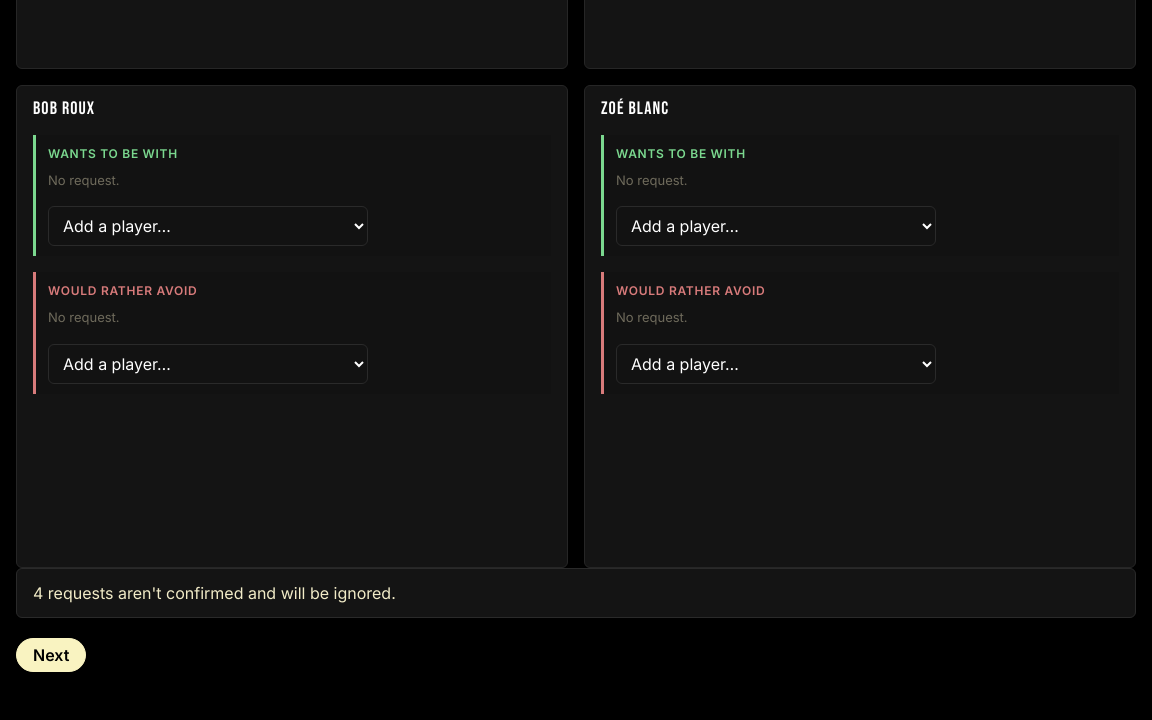
it: team builder page › moves with Next and Previous and hides them at the ends
(page scrolled)
Check: the button "Previous" is not shown
Click the button "Next" at x=51, y=655, box top-left (16, 638), bottom-right (86, 672)
(page scrolled)
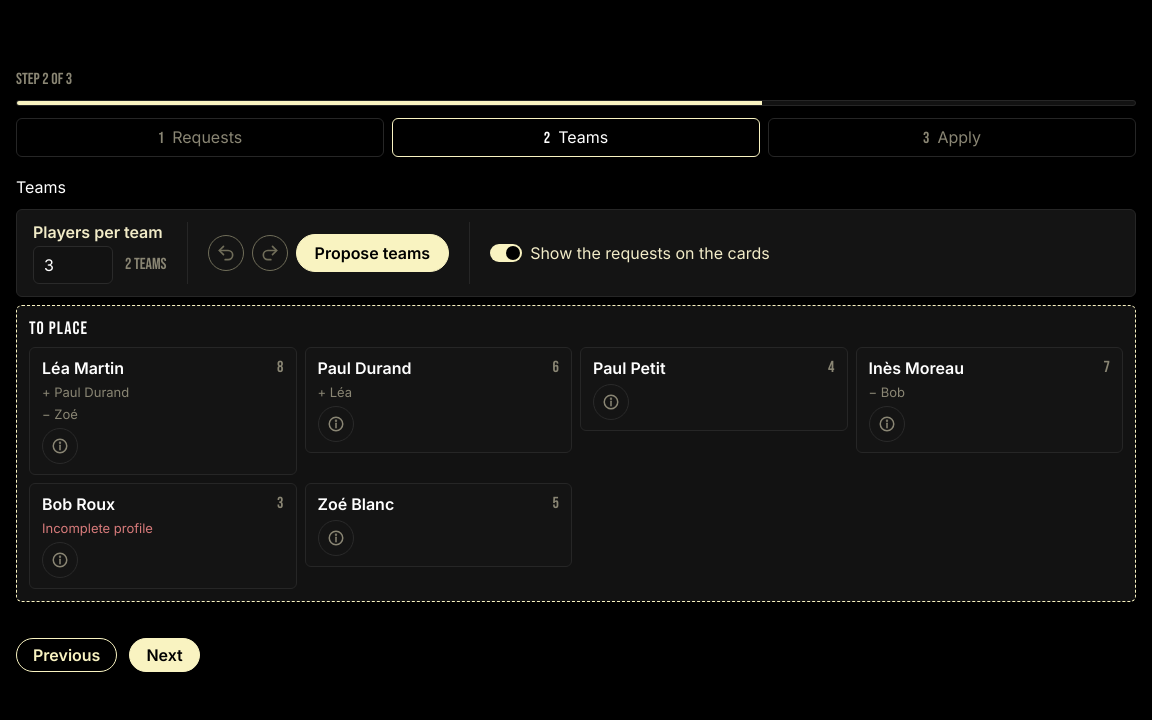
Check: the heading "Teams" is shown, box top-left (16, 177), bottom-right (66, 197)
Click the button "Next" at x=165, y=655, box top-left (129, 638), bottom-right (200, 672)
(page scrolled)
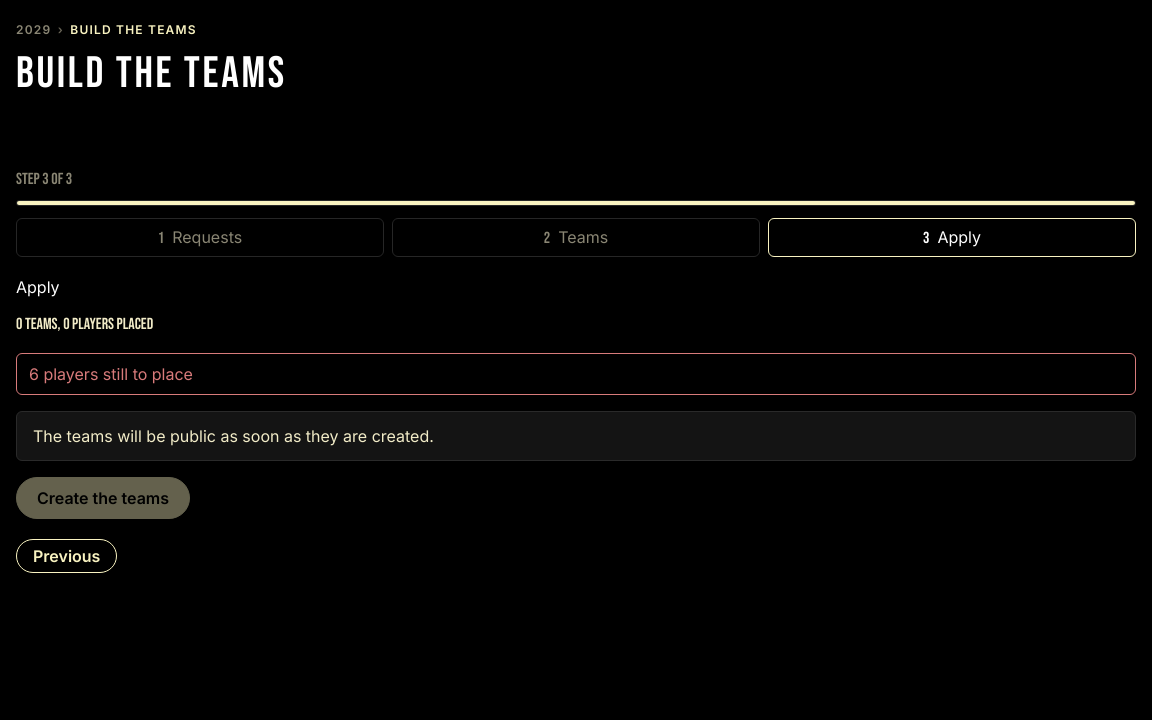
Check: the heading "Apply" is shown, box top-left (16, 277), bottom-right (60, 297)
Check: the button "Next" is gone
Click the button "Previous" at x=67, y=556, box top-left (16, 539), bottom-right (117, 573)
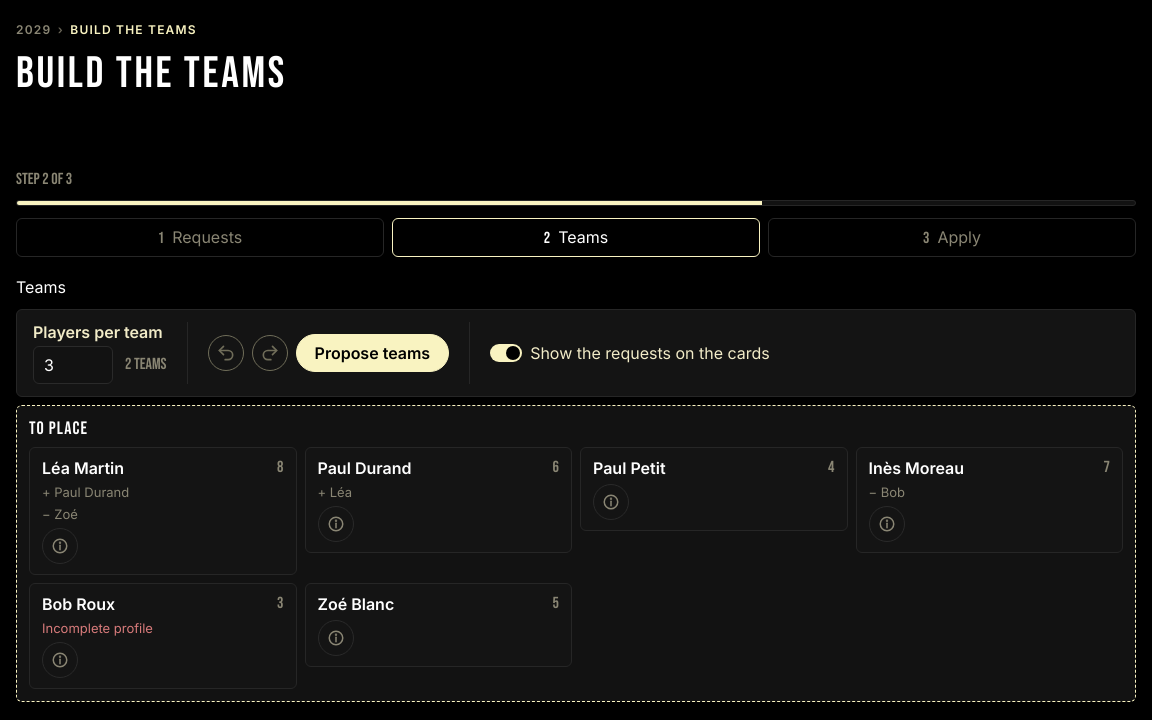
Check: the heading "Teams" is shown, box top-left (16, 277), bottom-right (66, 297)
